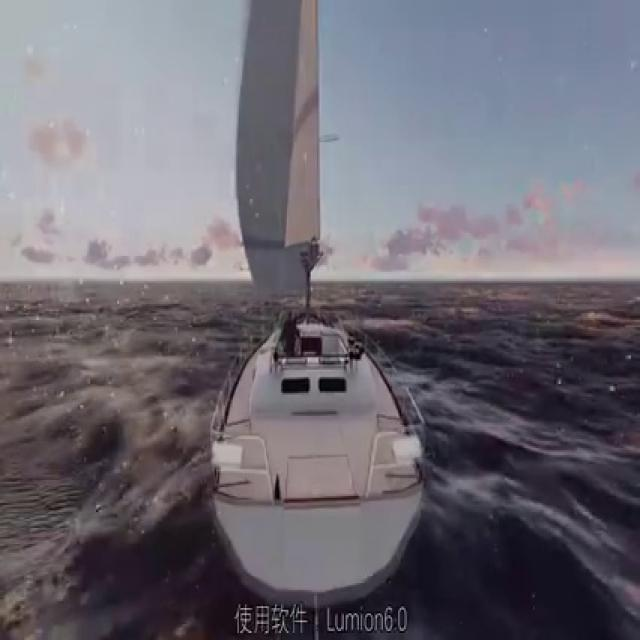sailboat: (207, 0, 433, 602)
